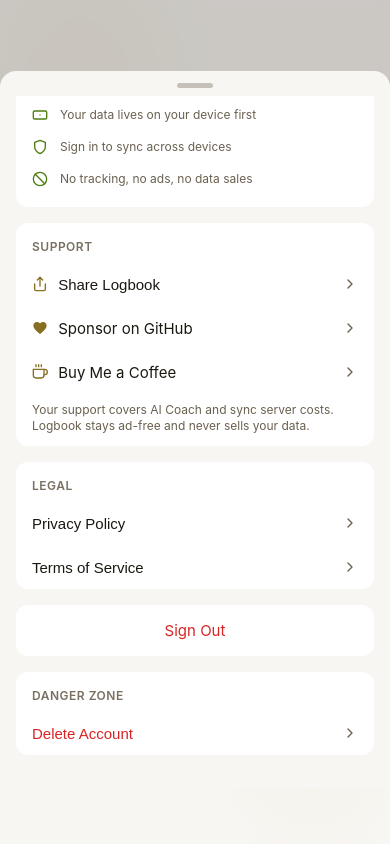
Scenario: SettingsSheet › legal + danger surfaces › opens the delete-account confirmation dialog
(page scrolled)
Step 1. Click the button with class "settingsDeleteAccount" → click(82, 733), box left=16, top=711, right=374, bottom=755
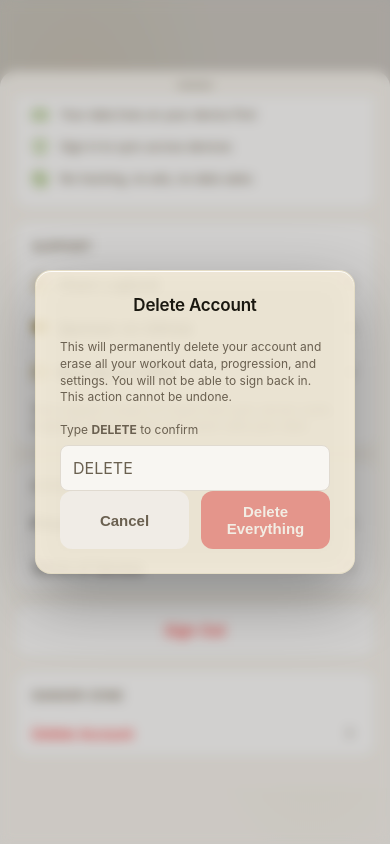
Check: the dialog with class "deleteConfirmSheet" is shown, box left=35, top=270, right=355, bottom=574
